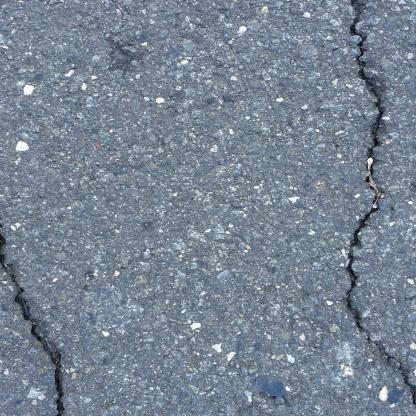Cracks: (0, 0, 115, 416), (344, 0, 416, 416)
